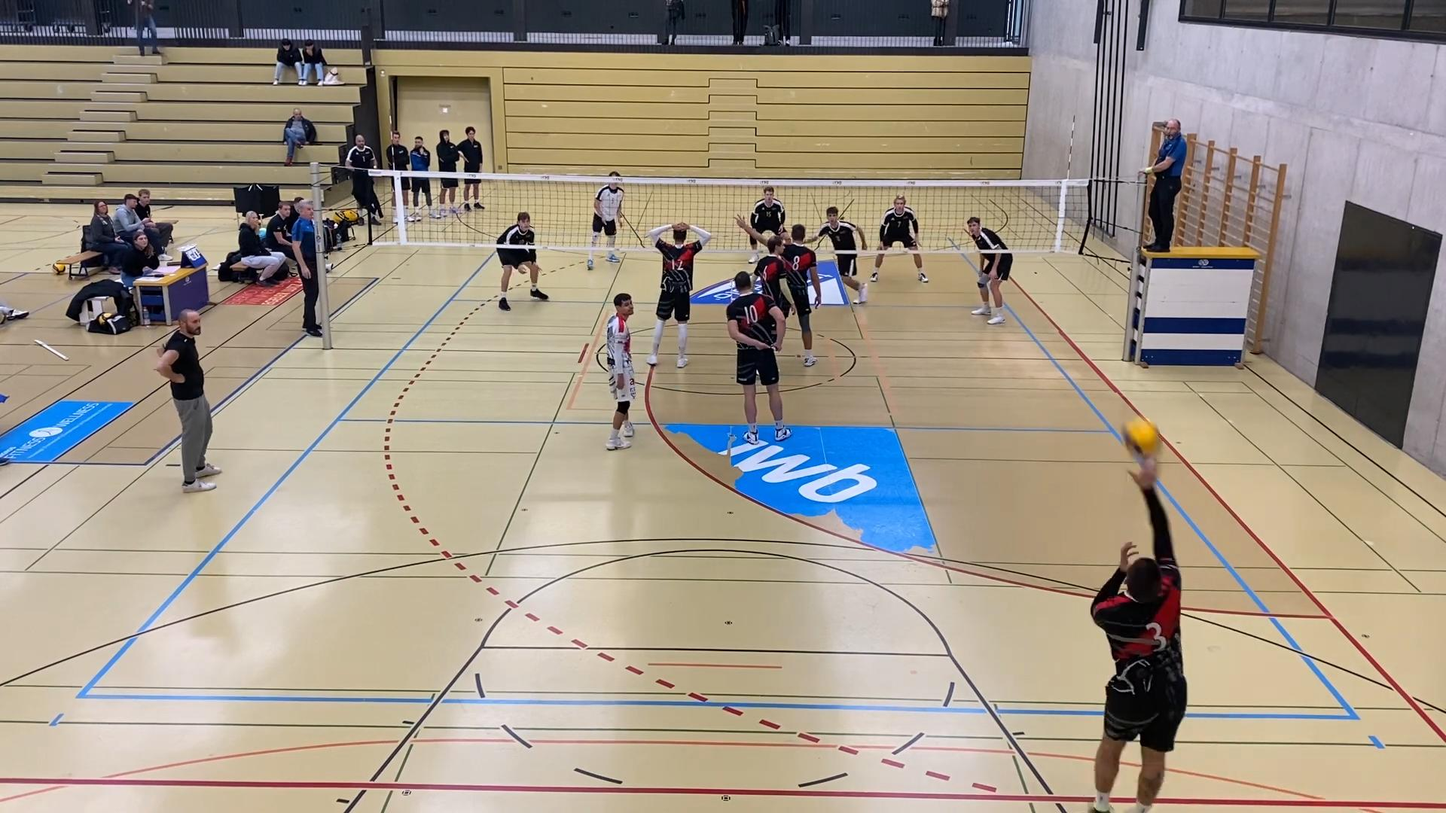battuta: (1076, 458, 1190, 813)
